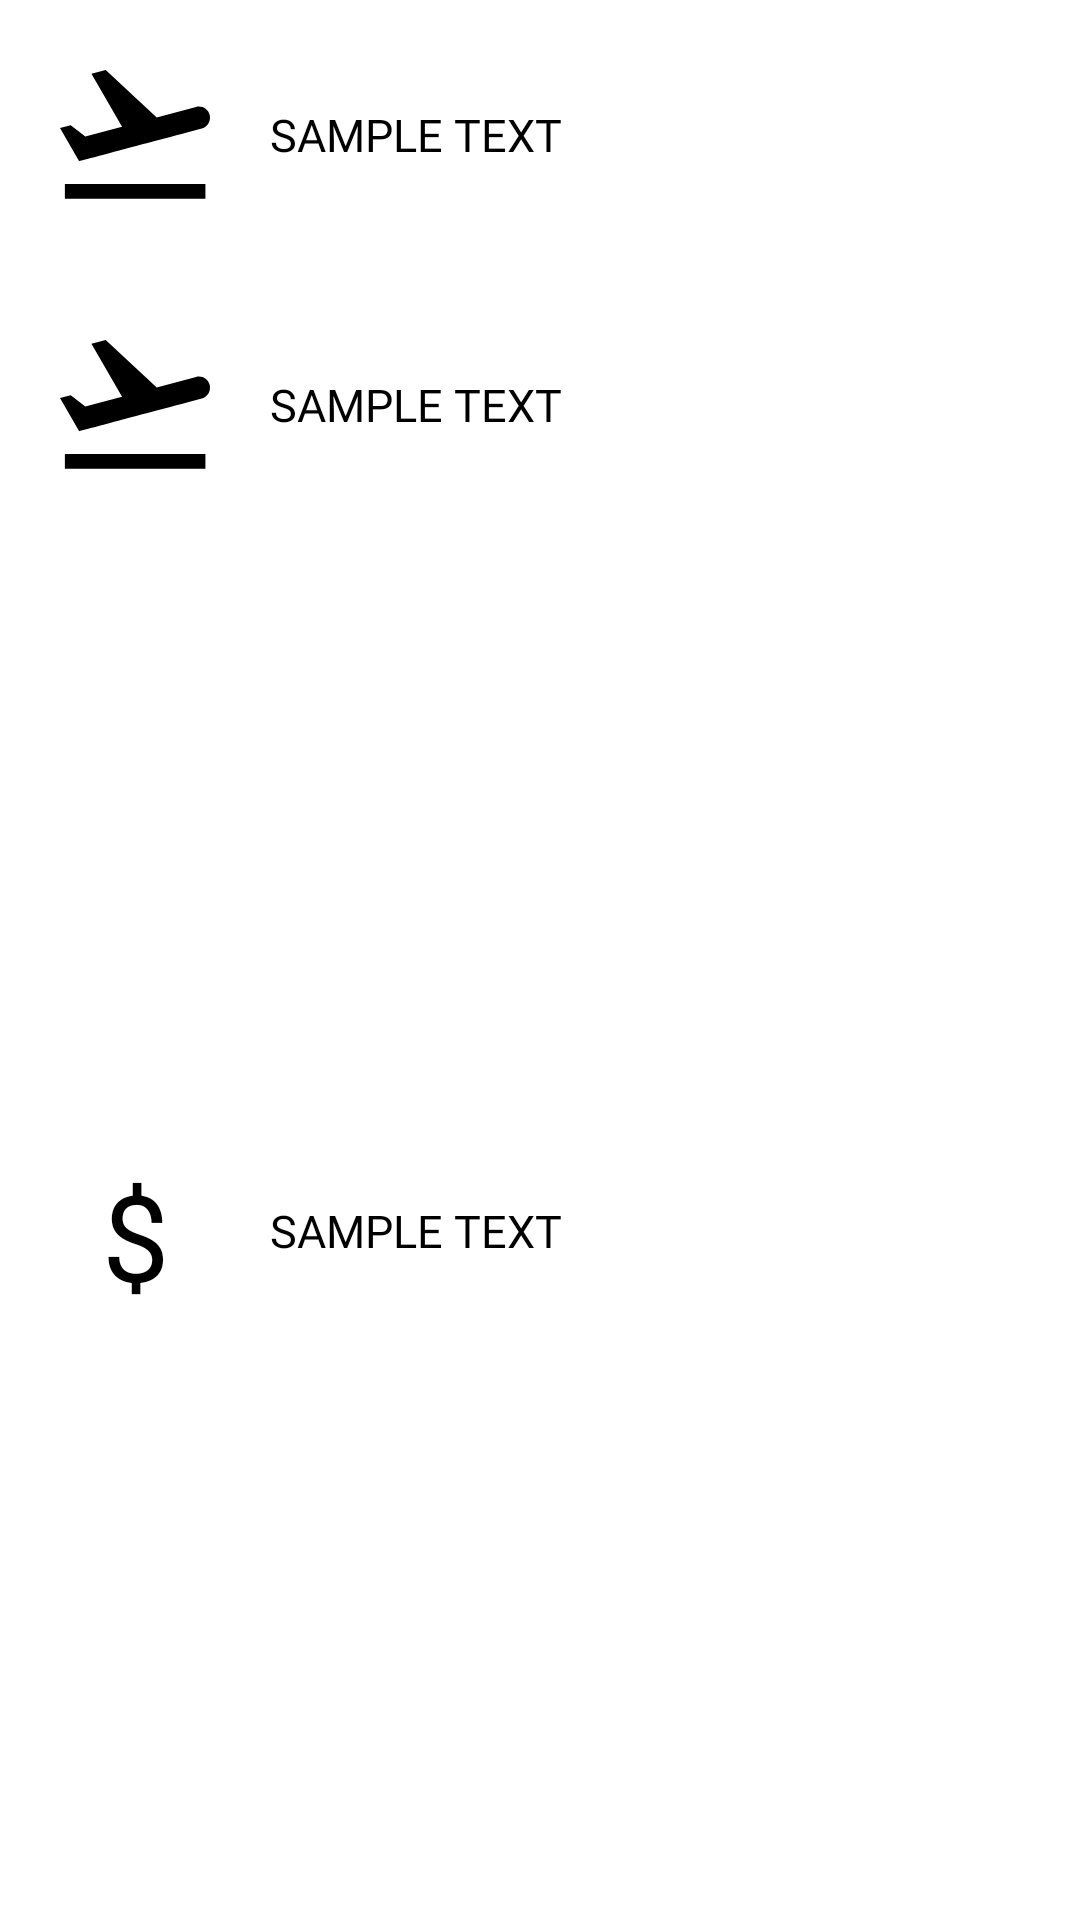

Icons on this 1080w x 1920h Android screen, each with its box as [x1, y1, x2, y2]:
departing plane: [60, 70, 210, 199], [60, 340, 210, 469]
